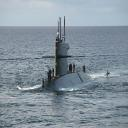submarine: (41, 13, 113, 93)
